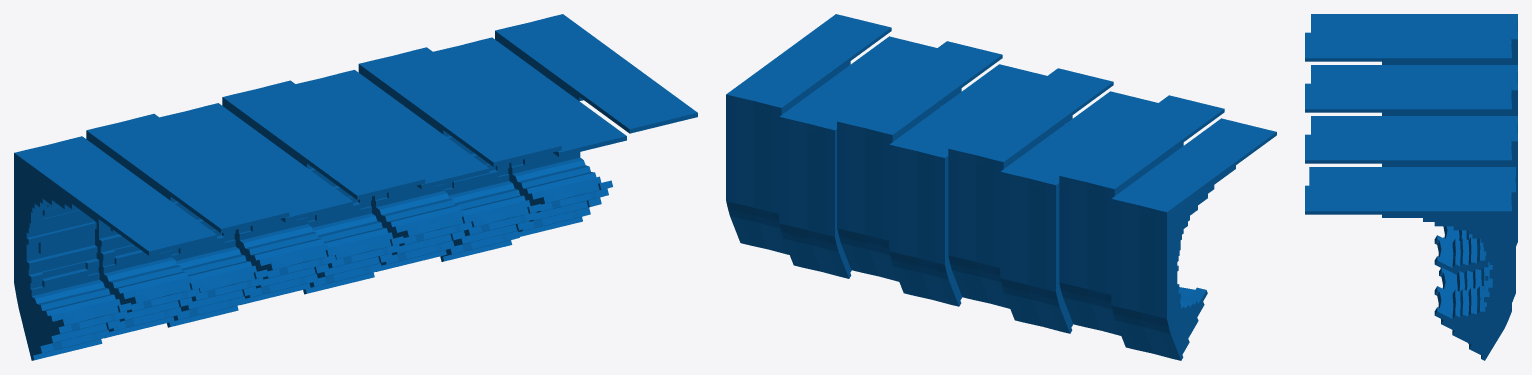
The model's file is wave_mesh.fbx.
3 views of the same model, side by side, from view 1: azimuth 30°, elevation 25°; view 2: azimuth 150°, elevation 25°; view 3: azimuth 270°, elevation 25° (orthographic). The views are drawn at different scales.
Visible parts, largest first — view 1: a-wave-particle--blue-6194, a-wave-particle--blue-6193, a-wave-particle--blue-6191, a-wave-particle--blue-6189, a-wave-particle--blue-6187, a-wave-particle--blue-6188, a-wave-particle--blue-6190, a-wave-particle--blue-6192; view 2: a-wave-particle--blue-6194, a-wave-particle--blue-6187, a-wave-particle--blue-6189, a-wave-particle--blue-6191, a-wave-particle--blue-6193, a-wave-particle--blue-6190, a-wave-particle--blue-6192, a-wave-particle--blue-6188; view 3: a-wave-particle--blue-6187, a-wave-particle--blue-6189, a-wave-particle--blue-6191, a-wave-particle--blue-6193, a-wave-particle--blue-6188, a-wave-particle--blue-6190, a-wave-particle--blue-6192, a-wave-particle--blue-6194.
Boxes of the visible parts, x1,y1,x2,y2 form: a-wave-particle--blue-6194: [14, 136, 216, 360]; a-wave-particle--blue-6193: [86, 113, 289, 338]; a-wave-particle--blue-6191: [222, 80, 425, 304]; a-wave-particle--blue-6189: [358, 47, 561, 271]; a-wave-particle--blue-6187: [495, 14, 697, 236]; a-wave-particle--blue-6188: [433, 37, 626, 261]; a-wave-particle--blue-6190: [296, 70, 489, 294]; a-wave-particle--blue-6192: [160, 103, 353, 327]; a-wave-particle--blue-6194: [1111, 118, 1276, 360]; a-wave-particle--blue-6187: [726, 14, 891, 254]; a-wave-particle--blue-6189: [837, 41, 1002, 281]; a-wave-particle--blue-6191: [948, 68, 1113, 308]; a-wave-particle--blue-6193: [1059, 95, 1224, 335]; a-wave-particle--blue-6190: [889, 64, 1046, 306]; a-wave-particle--blue-6192: [1000, 91, 1157, 333]; a-wave-particle--blue-6188: [779, 36, 936, 278]; a-wave-particle--blue-6187: [1305, 185, 1511, 360]; a-wave-particle--blue-6189: [1305, 134, 1511, 274]; a-wave-particle--blue-6191: [1305, 83, 1511, 115]; a-wave-particle--blue-6193: [1305, 32, 1511, 64]; a-wave-particle--blue-6188: [1309, 167, 1515, 302]; a-wave-particle--blue-6190: [1311, 116, 1517, 245]; a-wave-particle--blue-6192: [1311, 65, 1517, 115]; a-wave-particle--blue-6194: [1311, 14, 1517, 64].
Size of the model in its own units: 510 by 183 by 225.
1 material, 1 textured.
